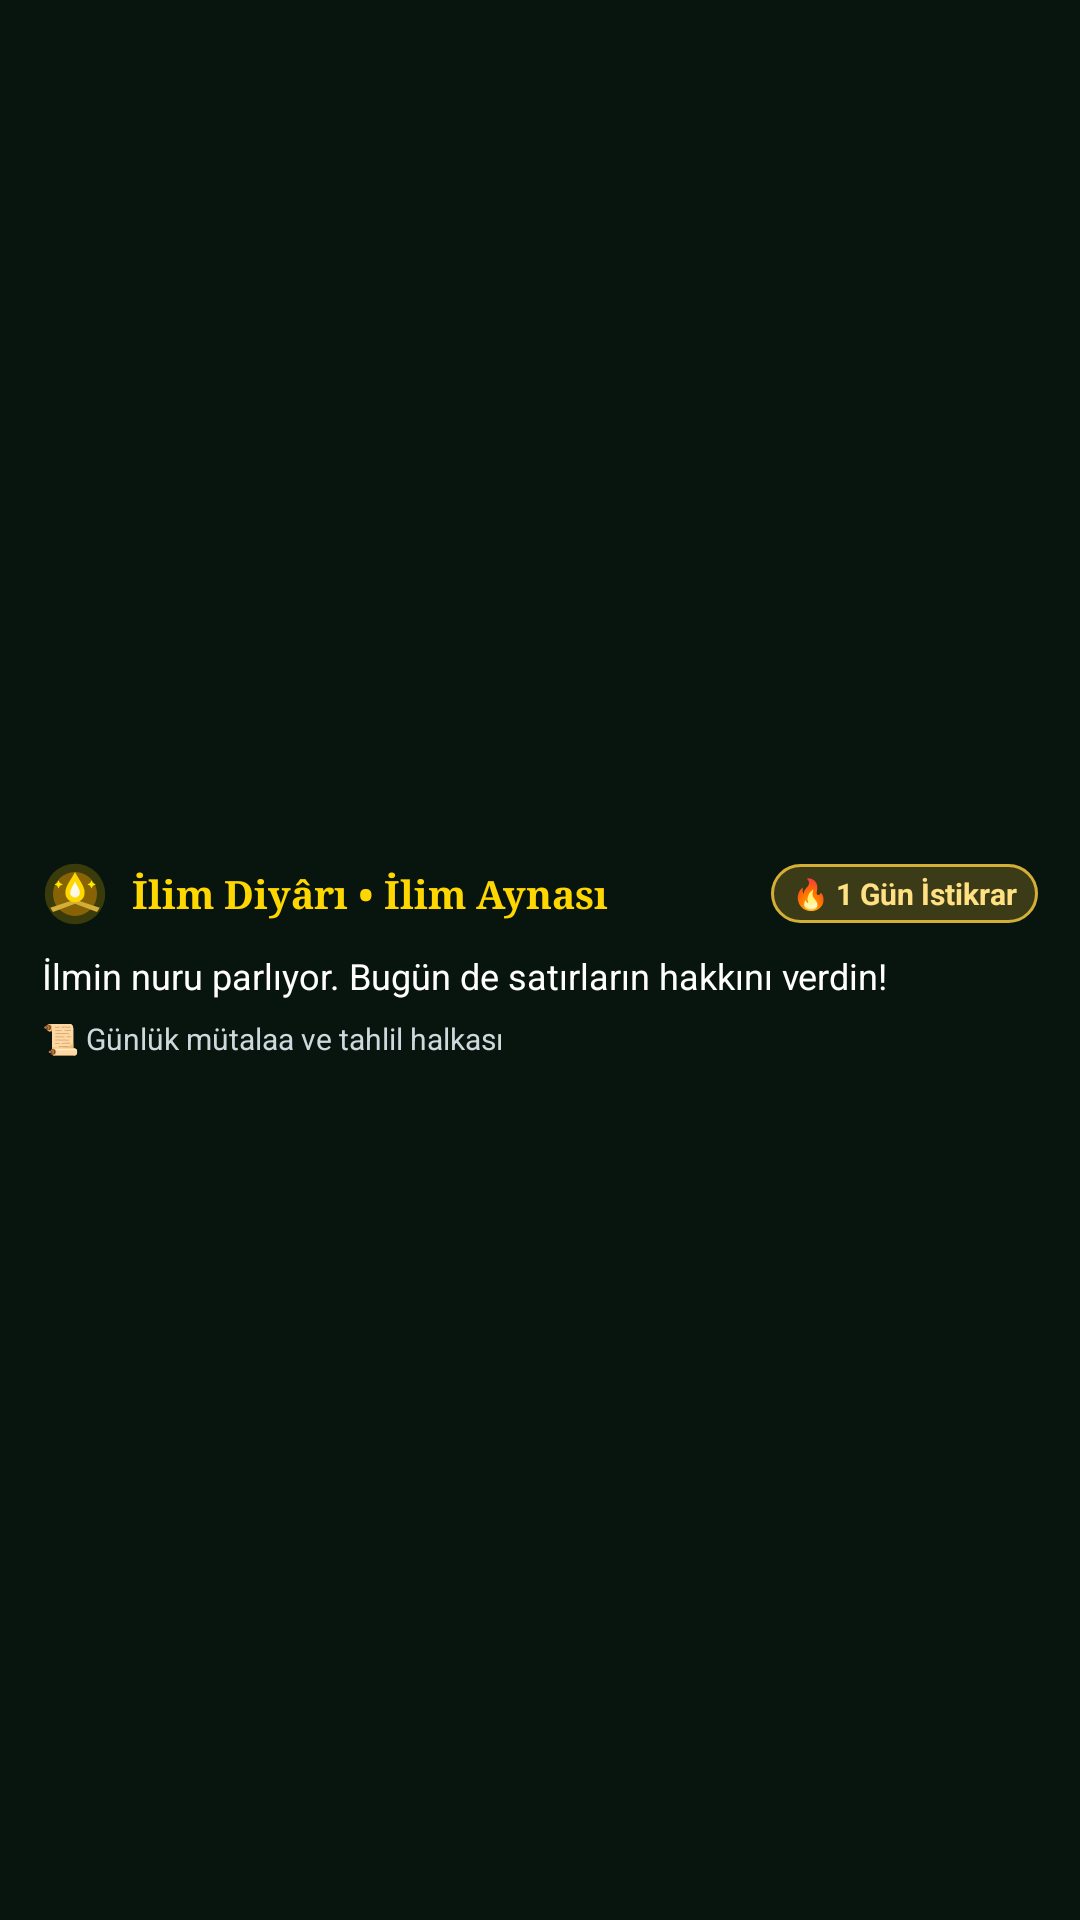

Where icons sit on this 1080 x 1920 app screen, as (x1, y1, x2, y2):
Durum İkonu: (45, 864, 105, 924)
